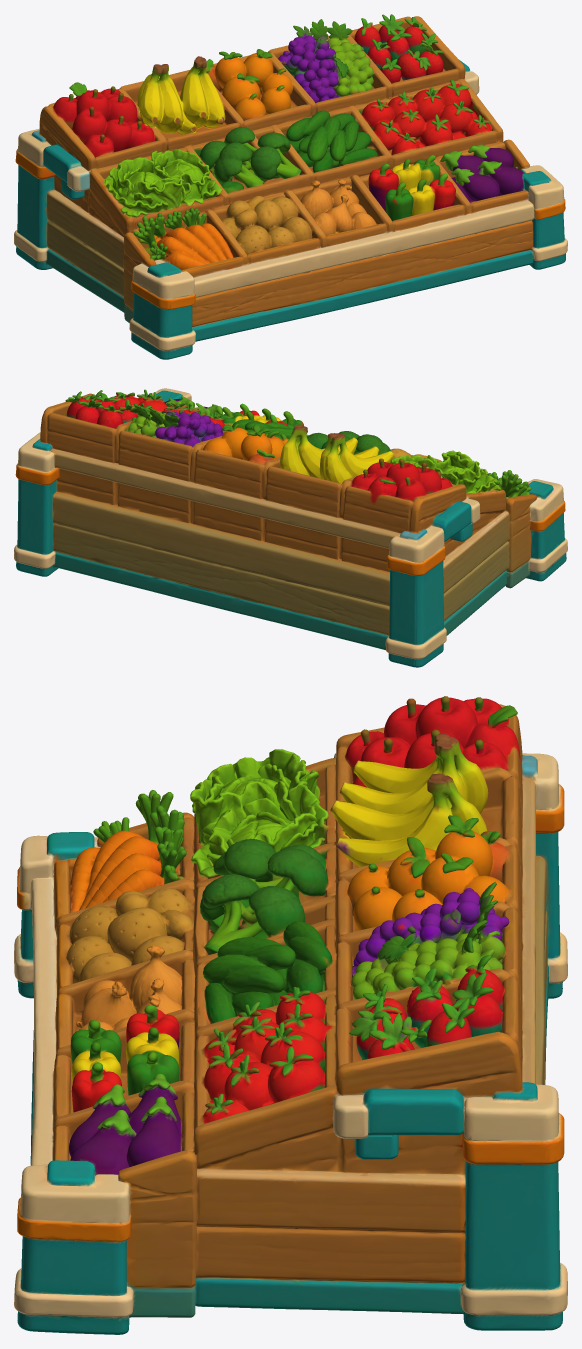
Rendered from FruitMarketStand.fbx.
3 renders of one model, top to bottom at view 1: azimuth 30°, elevation 25°; view 2: azimuth 150°, elevation 25°; view 3: azimuth 270°, elevation 25°, orthographic. The views are drawn at different scales.
Parts seen in each view (by area): view 1: tripo_node_ee77ba51-7823-4c87-8c86-4d2e4193406a; view 2: tripo_node_ee77ba51-7823-4c87-8c86-4d2e4193406a; view 3: tripo_node_ee77ba51-7823-4c87-8c86-4d2e4193406a.
Part boxes in pixels (x1,y1,x2,y2): tripo_node_ee77ba51-7823-4c87-8c86-4d2e4193406a: (14, 14, 567, 359); tripo_node_ee77ba51-7823-4c87-8c86-4d2e4193406a: (14, 388, 567, 667); tripo_node_ee77ba51-7823-4c87-8c86-4d2e4193406a: (14, 696, 567, 1334).
Size of the model in its own units: 97.99 by 41.53 by 61.98.
1 material, 1 textured.
